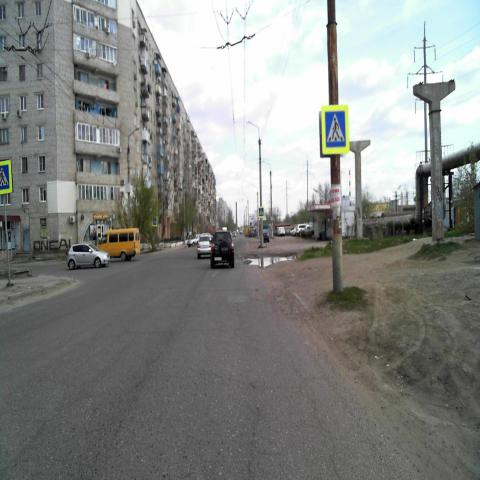5_19_1: (322, 106, 348, 156)
